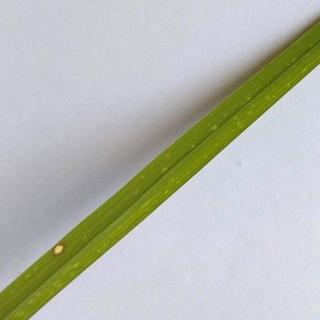Blast: (44, 230, 79, 268)
